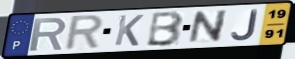B: (144, 10, 186, 47)
J: (230, 8, 260, 42)
K: (113, 14, 146, 47)
N: (186, 9, 230, 45)
R: (62, 13, 106, 52), (28, 17, 69, 53)
